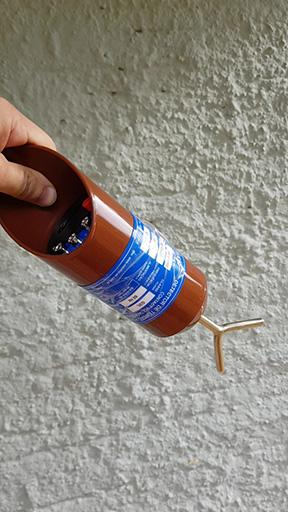Detector_Tensao_Contato: (1, 146, 265, 374)
